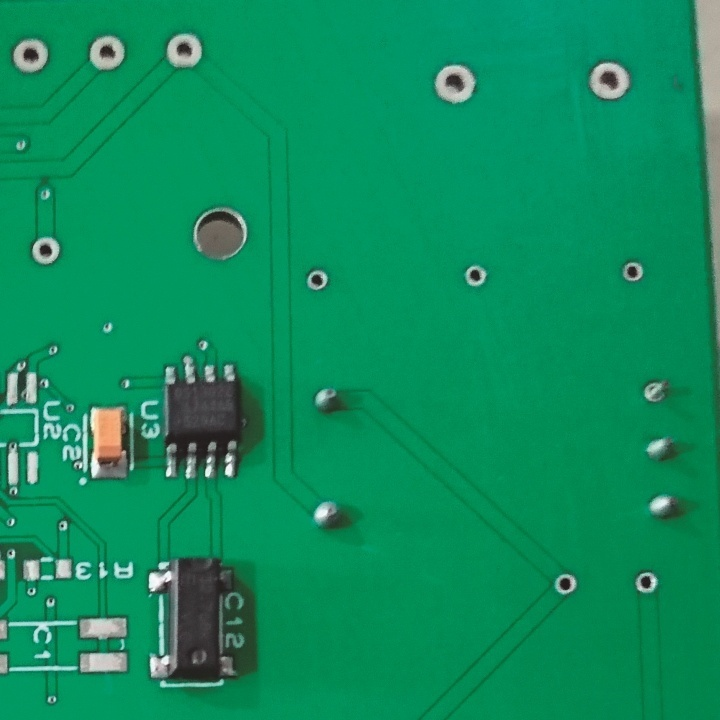F: (428, 59, 481, 107), (584, 55, 635, 103), (161, 29, 207, 72), (11, 34, 52, 79), (87, 33, 129, 74), (29, 235, 66, 269), (640, 371, 673, 409), (547, 571, 584, 598), (461, 260, 492, 291), (302, 267, 331, 296), (633, 569, 659, 600), (622, 259, 647, 285)
